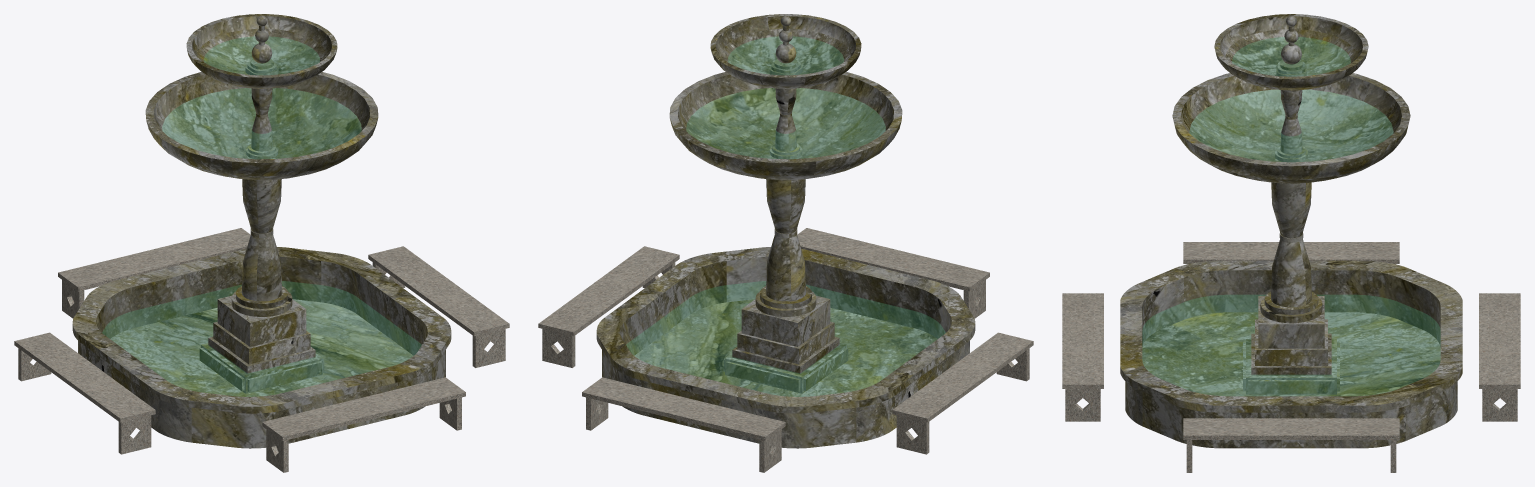
3 views of the same model, side by side, from view 1: azimuth 30°, elevation 25°; view 2: azimuth 150°, elevation 25°; view 3: azimuth 270°, elevation 25° (orthographic). The views are drawn at different scales.
Parts seen in each view (by area): view 1: Fountain_0, Bench_1; view 2: Fountain_0, Bench_1; view 3: Fountain_0, Bench_1.
Boxes of the visible parts, left/top/right/bottom form: Fountain_0: left=72, top=14, right=451, bottom=448; Bench_1: left=14, top=228, right=509, bottom=472; Fountain_0: left=596, top=14, right=975, bottom=448; Bench_1: left=538, top=228, right=1033, bottom=472; Fountain_0: left=1120, top=14, right=1462, bottom=448; Bench_1: left=1062, top=242, right=1520, bottom=472.
Size of the model in its own units: 4.24 by 3.69 by 4.24.
3 materials, 2 textured.
